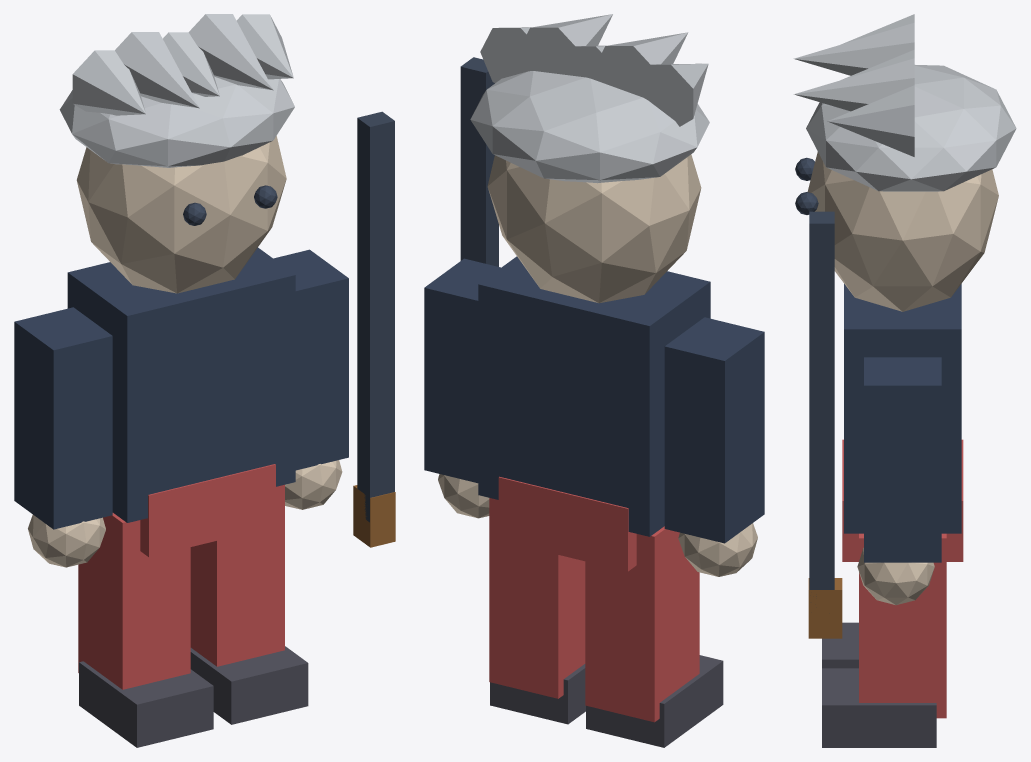
Rendered from asta.glb.
The picture shows the model from 3 angles, left to right: view 1: azimuth 30°, elevation 25°; view 2: azimuth 150°, elevation 25°; view 3: azimuth 270°, elevation 25°; orthographic projection. The views are drawn at different scales.
Visible parts, largest first — view 1: part_000, part_010, part_002, part_004, part_020, part_013, part_008, part_006, part_001, part_005, part_009, part_014 (+7 smaller); view 2: part_000, part_010, part_002, part_013, part_004, part_008, part_006, part_001, part_020, part_005, part_017, part_015 (+6 smaller); view 3: part_010, part_006, part_013, part_000, part_008, part_020, part_009, part_018, part_015, part_017, part_007, part_019 (+3 smaller).
Part boxes in pixels (<box>): part_000: <box>67,247,295,522</box>; part_010: <box>76,136,286,293</box>; part_002: <box>14,307,112,529</box>; part_004: <box>78,513,190,689</box>; part_020: <box>357,111,394,522</box>; part_013: <box>59,76,294,167</box>; part_008: <box>190,484,284,666</box>; part_006: <box>273,249,348,470</box>; part_001: <box>140,464,275,557</box>; part_005: <box>79,661,213,747</box>; part_009: <box>190,646,308,724</box>; part_014: <box>72,50,145,115</box>; part_000: <box>478,256,710,536</box>; part_010: <box>487,154,701,303</box>; part_002: <box>664,317,764,543</box>; part_013: <box>470,71,709,183</box>; part_004: <box>585,526,699,722</box>; part_008: <box>489,498,585,698</box>; part_006: <box>424,258,500,483</box>; part_001: <box>498,476,636,571</box>; part_020: <box>460,57,498,266</box>; part_005: <box>586,655,723,747</box>; part_017: <box>518,14,612,76</box>; part_015: <box>593,32,688,102</box>; part_010: <box>807,151,998,311</box>; part_006: <box>864,357,941,562</box>; part_013: <box>806,65,1016,191</box>; part_000: <box>844,284,961,533</box>; part_008: <box>859,533,946,718</box>; part_020: <box>809,211,834,596</box>; part_009: <box>822,668,936,747</box>; part_018: <box>827,85,914,156</box>; part_015: <box>793,22,914,75</box>; part_017: <box>794,58,914,111</box>; part_007: <box>857,548,934,605</box>; part_019: <box>808,578,842,638</box>.
Bounding box in the file's own units: 1.08 × 2.17 × 0.6628.
